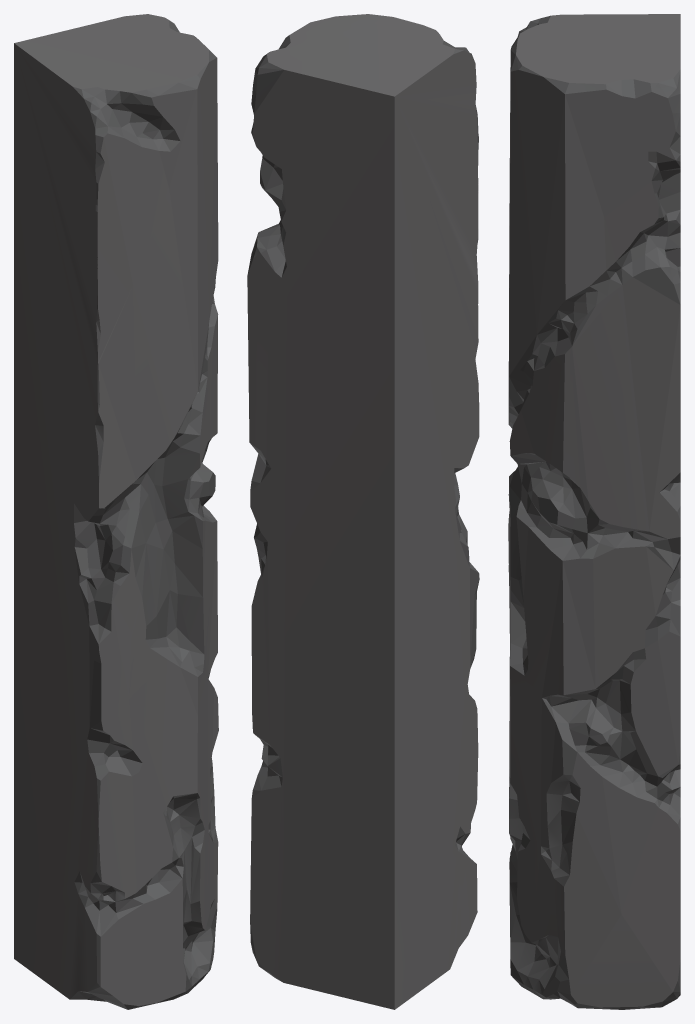
Rendered from SM_Concrete_Pillar_Support_Broken_Lvl_2.glb.
3 renders of one model, left to right at view 1: azimuth 30°, elevation 25°; view 2: azimuth 150°, elevation 25°; view 3: azimuth 270°, elevation 25°, orthographic.
Parts seen in each view (by area): view 1: SM_Concrete_Pillar_Support_Broken_Lvl_2; view 2: SM_Concrete_Pillar_Support_Broken_Lvl_2; view 3: SM_Concrete_Pillar_Support_Broken_Lvl_2.
Part boxes in pixels (x1,y1,x2,y2): SM_Concrete_Pillar_Support_Broken_Lvl_2: (14,14,218,1009); SM_Concrete_Pillar_Support_Broken_Lvl_2: (247,14,479,1009); SM_Concrete_Pillar_Support_Broken_Lvl_2: (508,14,680,1009).
Size of the model in its own units: 0.5119 by 3 by 0.5065.
Materials: 1 (1 with a texture image).
